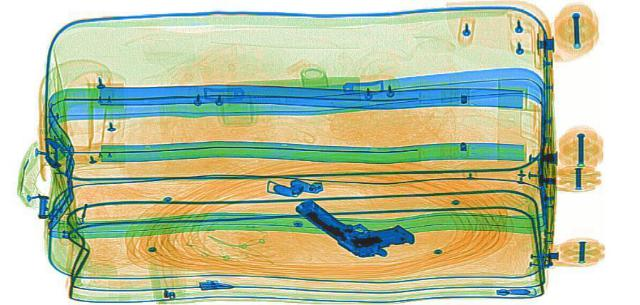Gun: (276, 187, 428, 260)
